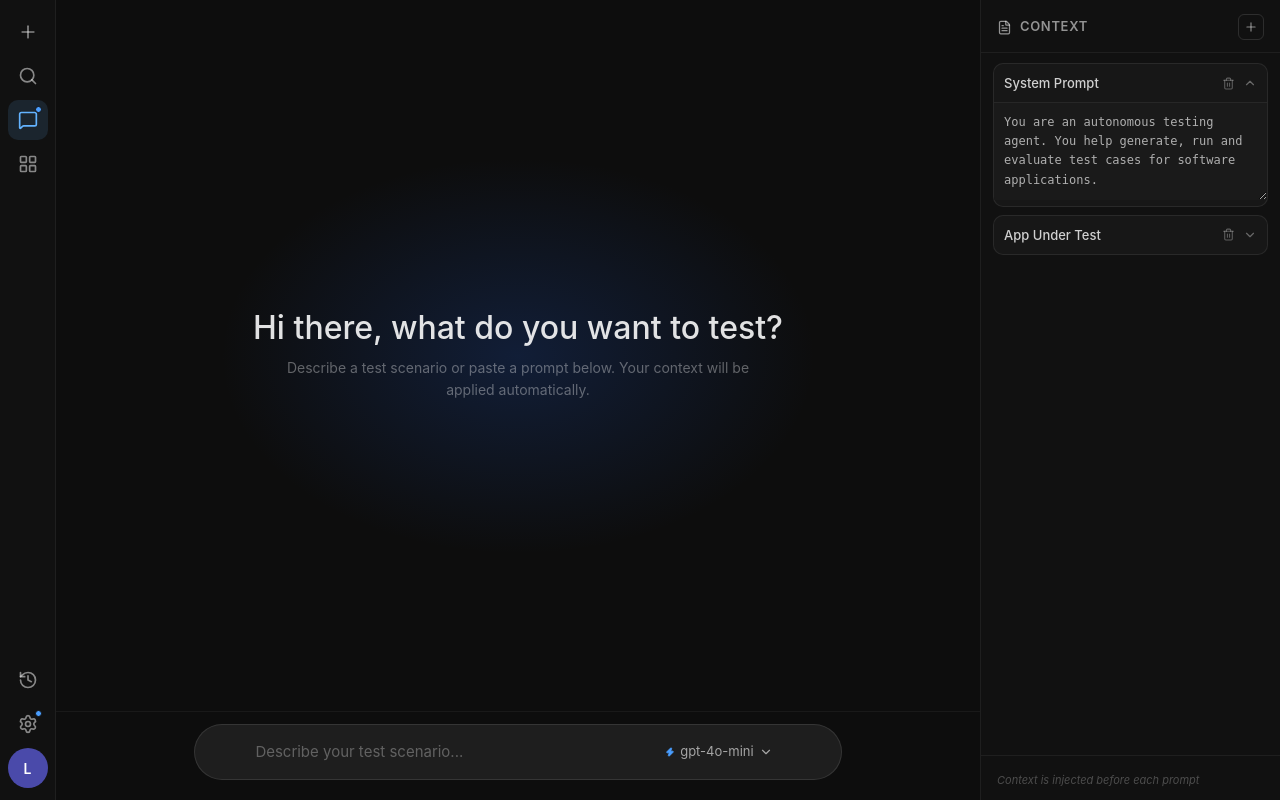
Test case: App menu navigation › renders the Search interface when Search is clicked
This screenshot has width=1280, height=800.
Click the button titled "Search" at (28, 76), box [8, 56, 48, 96]
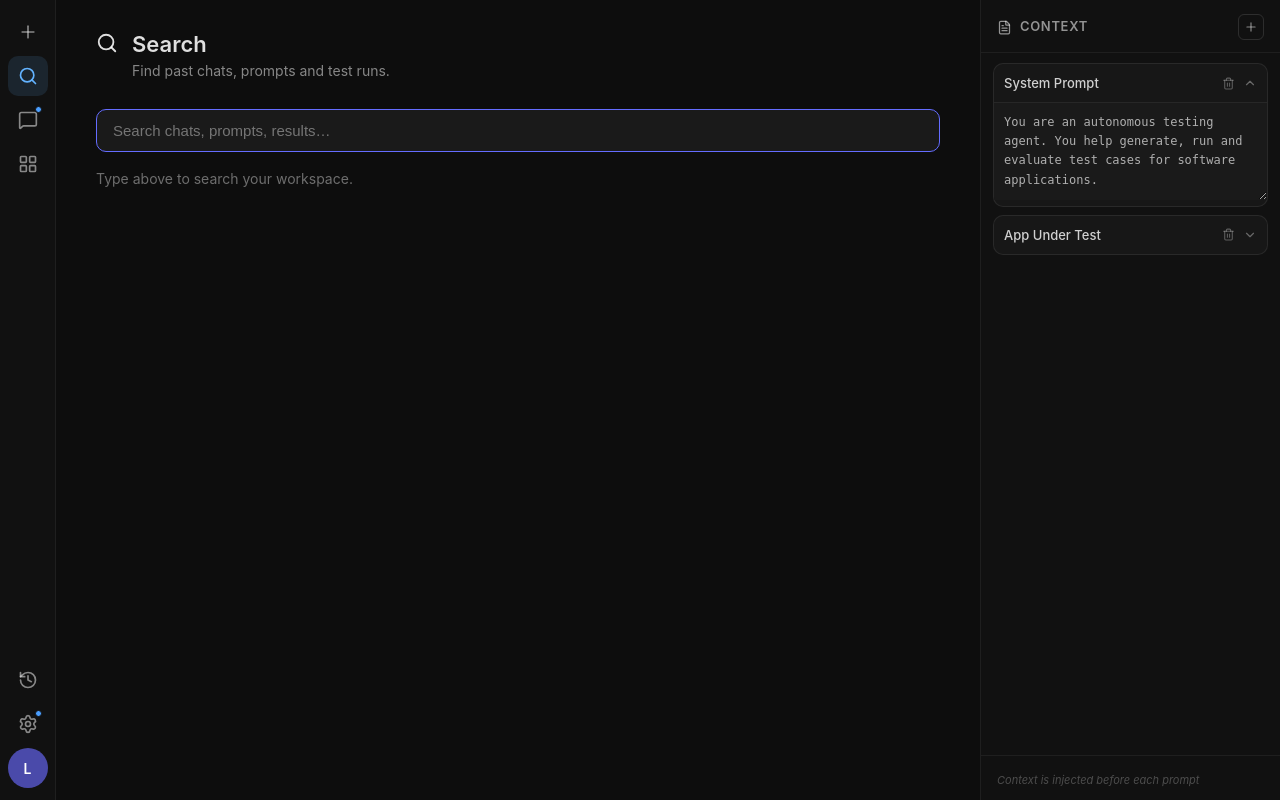
Expected: the heading "Search" is shown, [132, 31, 207, 57]
Expected: the search field with placeholder "Search chats, prompts, results…" is shown, [96, 109, 940, 152]
